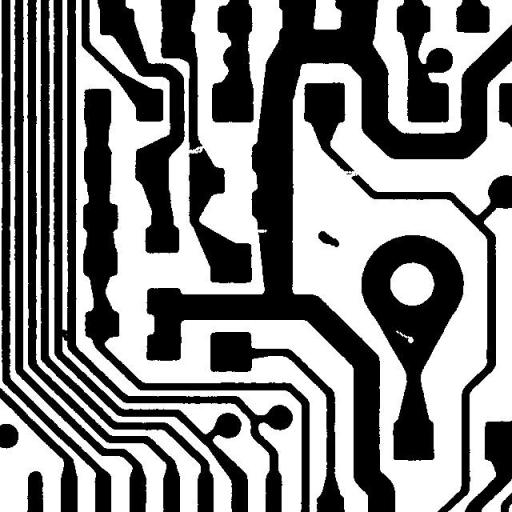copper: (310, 224, 346, 254)
mousebite: (246, 222, 274, 240)
open: (179, 136, 212, 161), (336, 162, 366, 185)
pin-hole: (388, 322, 421, 350)
short: (50, 322, 77, 348)
